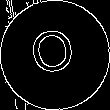O_S: (29, 26, 81, 84)
